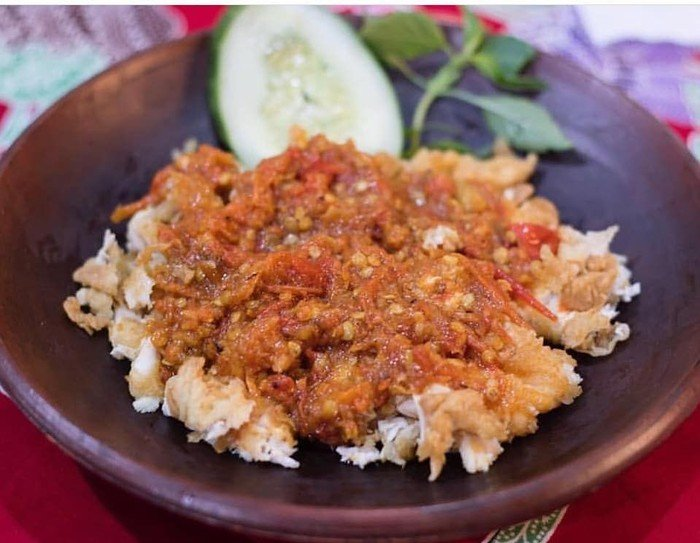ayam_geprek: (73, 133, 631, 475)
